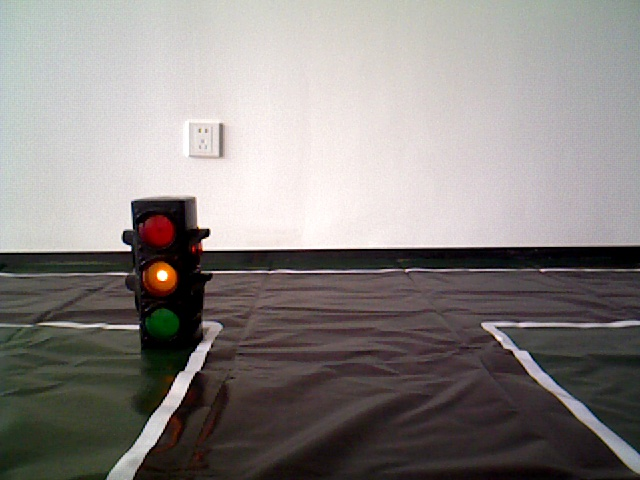yellow: (129, 199, 205, 345)
